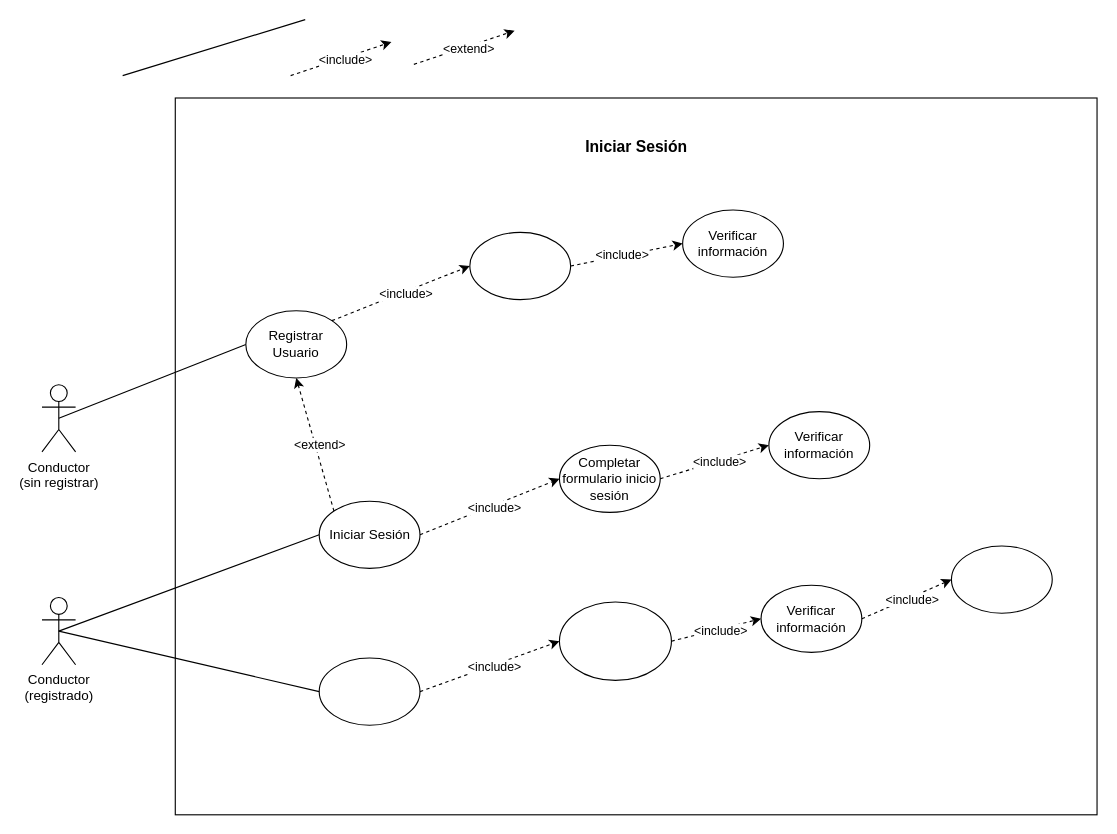
Image size: 1117x834. Some labels were removed from this diagram. Here are the shapes that lost their labels. From the top down, the centre of each, then its label:
(x=520, y=265): Completar formulario de registro
(x=1001, y=579): Cambiar contraseña
(x=614, y=640): Responder preguntas clave
(x=369, y=691): Recuperar Contraseña
